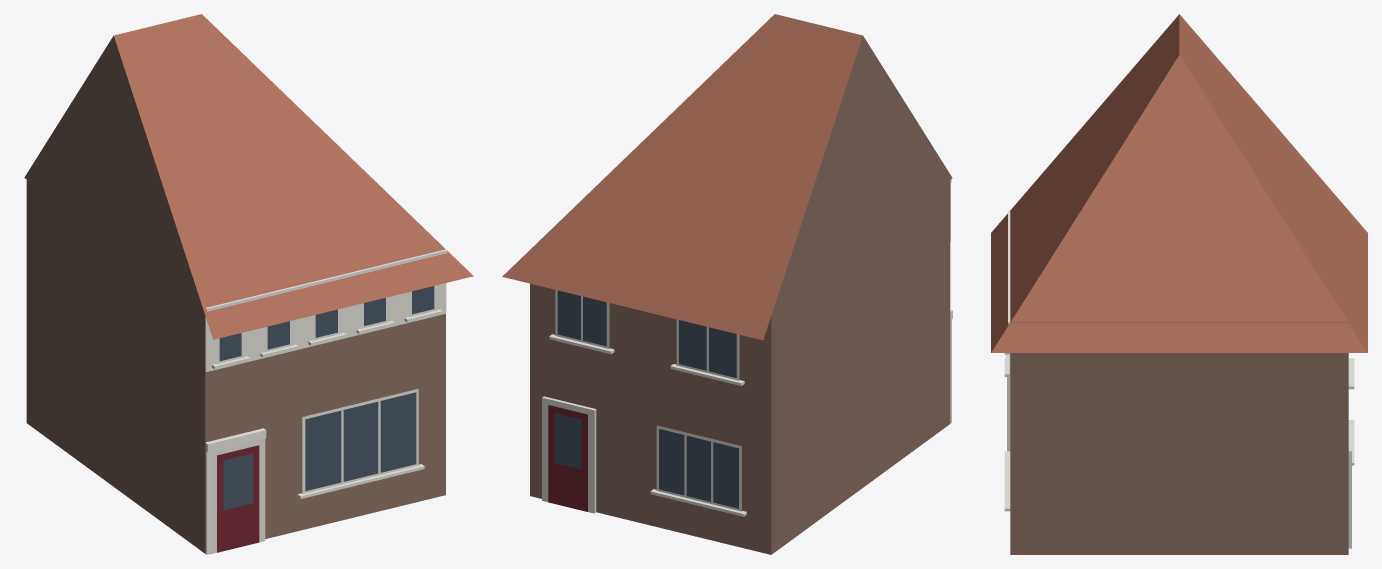
The model's file is nn-band__band__2__hip__long__solid__endR.glb.
The picture shows the model from 3 angles, left to right: view 1: azimuth 30°, elevation 25°; view 2: azimuth 150°, elevation 25°; view 3: azimuth 270°, elevation 25°; orthographic projection. The views are drawn at different scales.
Visible parts, largest first — view 1: nn-band__band__2__hip__long__solid__endR; view 2: nn-band__band__2__hip__long__solid__endR; view 3: nn-band__band__2__hip__long__solid__endR.
Boxes of the visible parts, x1,y1,x2,y2 form: nn-band__band__2__hip__long__solid__endR: (24,14,473,554); nn-band__band__2__hip__long__solid__endR: (502,14,952,554); nn-band__band__2__hip__long__solid__endR: (991,14,1367,554).
Size of the model in its own units: 5.88 by 9.78 by 7.78.
